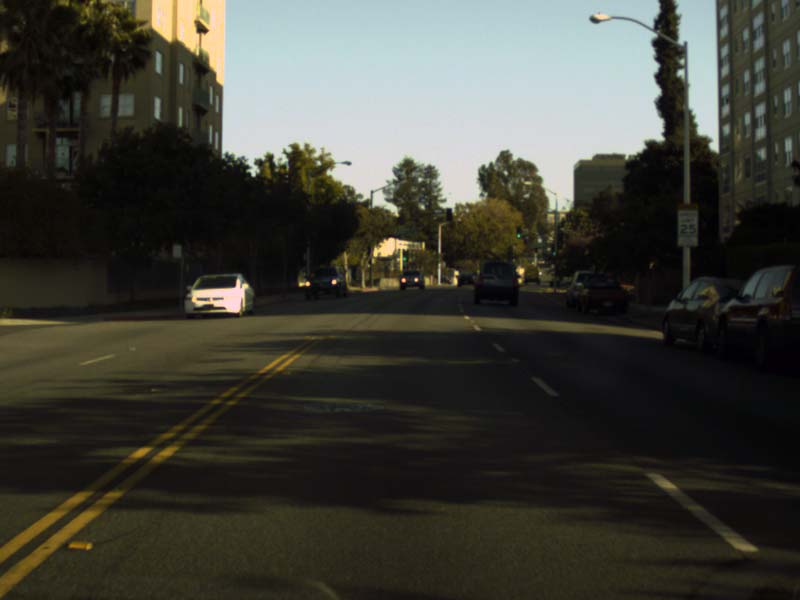Green: (515, 224, 520, 238), (402, 249, 407, 261), (551, 244, 556, 256)
